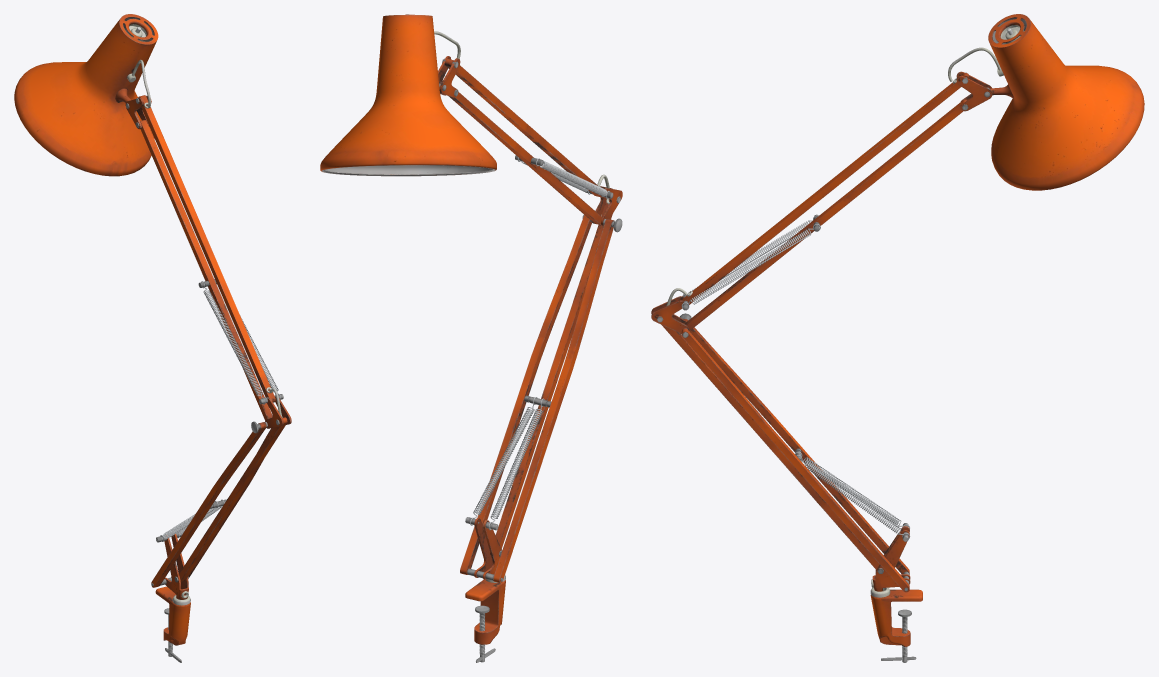
Rendered from desk-lamp.glb.
3 renders of one model, left to right at view 1: azimuth 30°, elevation 25°; view 2: azimuth 150°, elevation 25°; view 3: azimuth 270°, elevation 25°, orthographic. The views are drawn at different scales.
Visible parts, largest first — view 1: shade, upper_link, upper_bar, lower_arm, lower_link, clamp, base_bracket, upper_spring_left, elbow_plates, head_bracket; view 2: shade, lower_arm, lower_link, upper_bar, upper_link, clamp, base_bracket, lower_spring_right, lower_spring_left, elbow_plates, head_bracket, upper_spring_left; view 3: shade, lower_arm, upper_link, upper_bar, lower_link, clamp, base_bracket, head_bracket, elbow_plates, upper_spring_right, lower_spring_right, lower_spring_left.
Part boxes in pixels (x1,y1,x2,y2): shade: (14, 14, 158, 176); upper_link: (138, 95, 275, 402); upper_bar: (140, 120, 272, 420); lower_arm: (151, 422, 272, 587); lower_link: (179, 417, 287, 581); clamp: (155, 586, 190, 645); base_bracket: (151, 532, 190, 605); upper_spring_left: (201, 281, 265, 404); elbow_plates: (251, 388, 291, 433); head_bracket: (125, 59, 151, 129); shade: (320, 14, 496, 176); lower_arm: (460, 215, 614, 583); lower_link: (490, 199, 612, 554); upper_bar: (448, 92, 601, 225); upper_link: (444, 58, 602, 197); clamp: (465, 579, 505, 644); base_bracket: (465, 517, 505, 582); lower_spring_right: (470, 397, 537, 525); lower_spring_left: (488, 398, 544, 530); elbow_plates: (582, 174, 622, 232); head_bracket: (434, 31, 460, 97); upper_spring_left: (536, 158, 609, 198); shade: (988, 14, 1144, 190); lower_arm: (681, 319, 909, 592); upper_link: (682, 73, 969, 304); upper_bar: (684, 99, 967, 330); lower_link: (662, 325, 879, 569); clamp: (870, 589, 922, 646); base_bracket: (870, 523, 910, 597); head_bracket: (948, 47, 1001, 111); elbow_plates: (651, 288, 691, 337); upper_spring_right: (681, 224, 820, 308); lower_spring_right: (796, 455, 910, 538); lower_spring_left: (795, 452, 909, 529).
Bounding box in the file's own units: 0.2017 × 0.8926 × 0.6139.
Materials: 3 (2 with a texture image).
